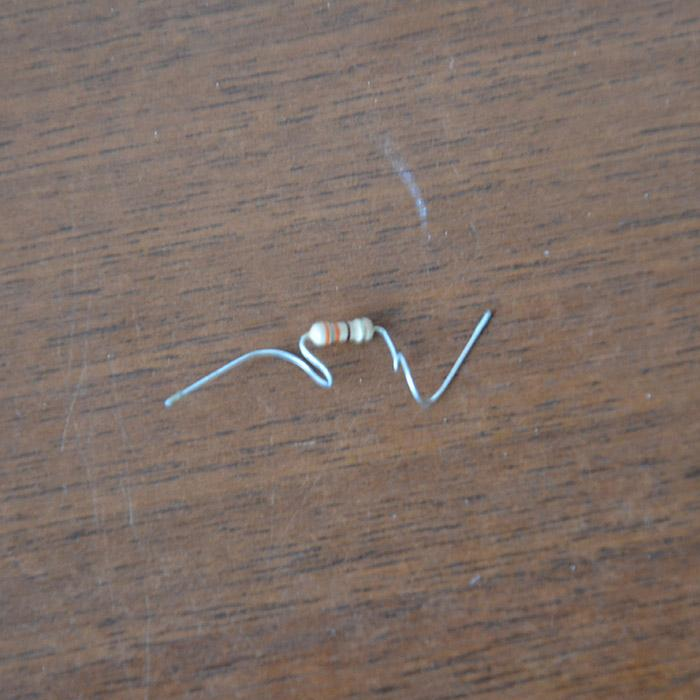resistor: (309, 316, 376, 347)
